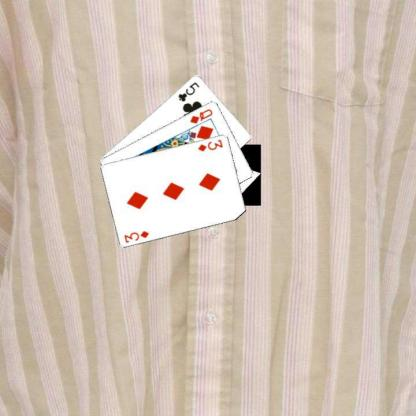3D: (195, 136, 224, 152), (122, 228, 150, 244)
5C: (176, 79, 200, 103)
QD: (187, 106, 214, 125)
